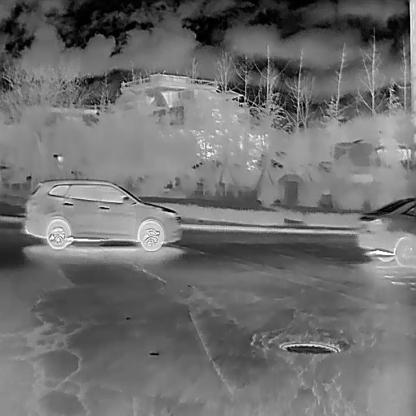car: (22, 177, 182, 250), (355, 196, 415, 267)
